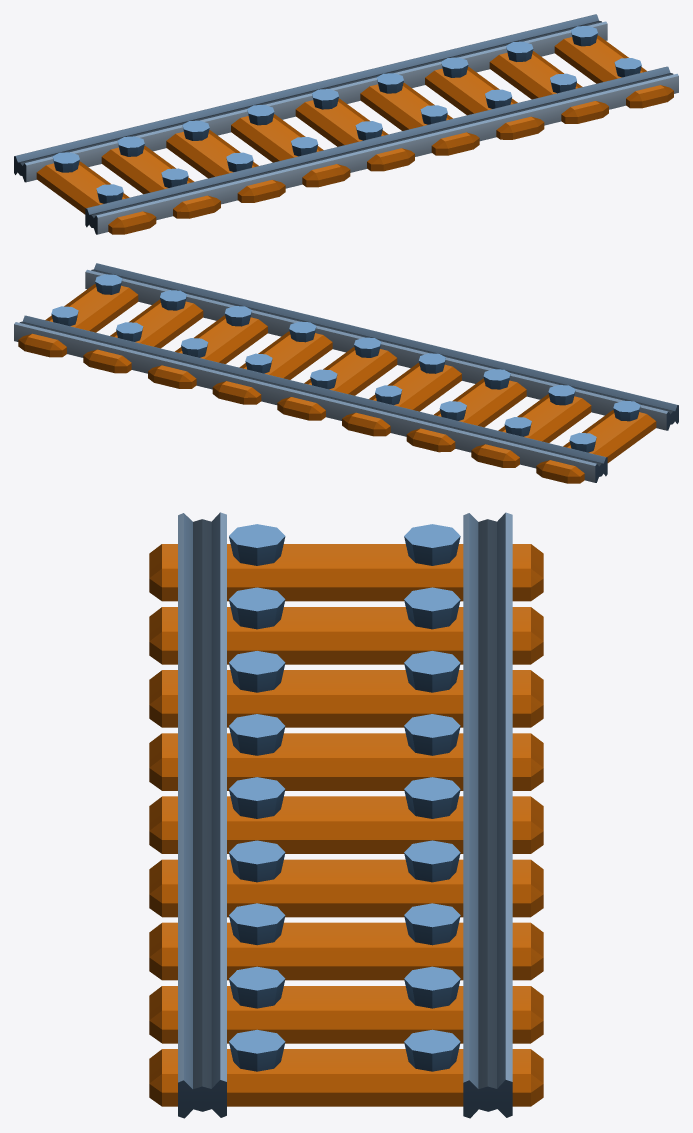
Rendered from 3Br-DuzRay.fbx.
3 renders of one model, top to bottom at view 1: azimuth 30°, elevation 25°; view 2: azimuth 150°, elevation 25°; view 3: azimuth 270°, elevation 25°, orthographic. The views are drawn at different scales.
Visible parts, largest first — view 1: 3Br-DuzRay; view 2: 3Br-DuzRay; view 3: 3Br-DuzRay.
Part boxes in pixels (left/top/right/bottom): 3Br-DuzRay: left=14, top=14, right=678, bottom=234; 3Br-DuzRay: left=14, top=263, right=678, bottom=483; 3Br-DuzRay: left=149, top=512, right=543, bottom=1118.
Size of the model in its own units: 600 by 25.32 by 176.
